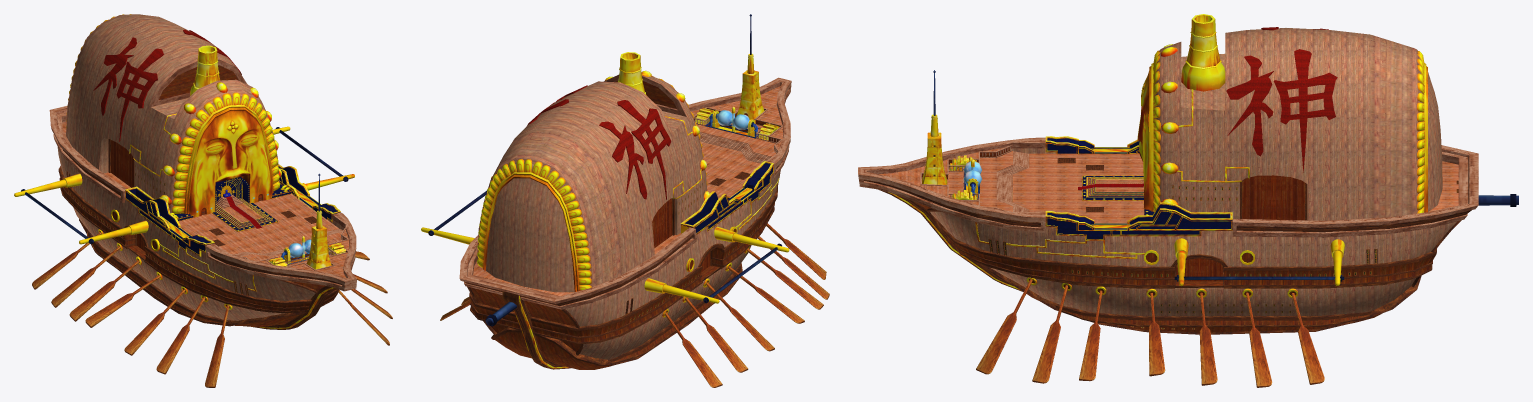
The model's file is ark_maxim.obj.
3 views of the same model, side by side, from view 1: azimuth 30°, elevation 25°; view 2: azimuth 150°, elevation 25°; view 3: azimuth 270°, elevation 25° (orthographic). The views are drawn at different scales.
Visible parts, largest first — view 1: ship; view 2: ship; view 3: ship.
Boxes of the visible parts, left/top/right/bottom form: ship: left=14, top=14, right=392, bottom=387; ship: left=421, top=14, right=829, bottom=387; ship: left=858, top=14, right=1518, bottom=387.
Bounding box in the file's own units: 88.51 × 77.14 × 150.
